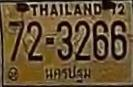2: (27, 20, 42, 60), (74, 20, 89, 60)
3: (56, 20, 72, 59)
6: (110, 19, 126, 59), (92, 20, 107, 59)
7: (8, 20, 24, 60)
NPT: (41, 63, 94, 84)
